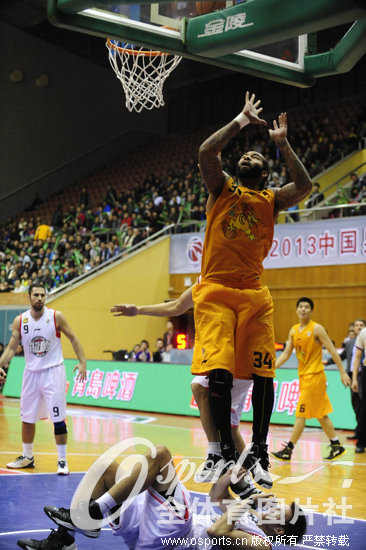fall: (17, 436, 309, 550)
